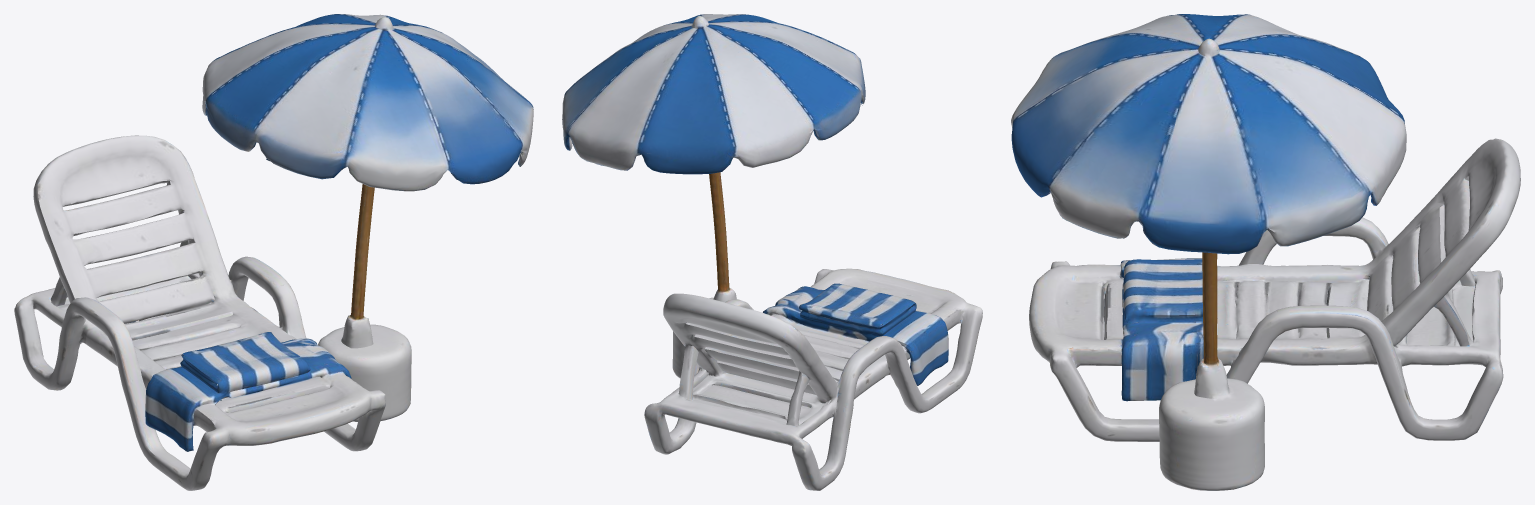
Rendered from lounger.glb.
The picture shows the model from 3 angles, left to right: view 1: azimuth 30°, elevation 25°; view 2: azimuth 150°, elevation 25°; view 3: azimuth 270°, elevation 25°; orthographic projection. The views are drawn at different scales.
Size of the model in its own units: 1.84 by 1.81 by 1.9.
Materials: 1 (1 with a texture image).
